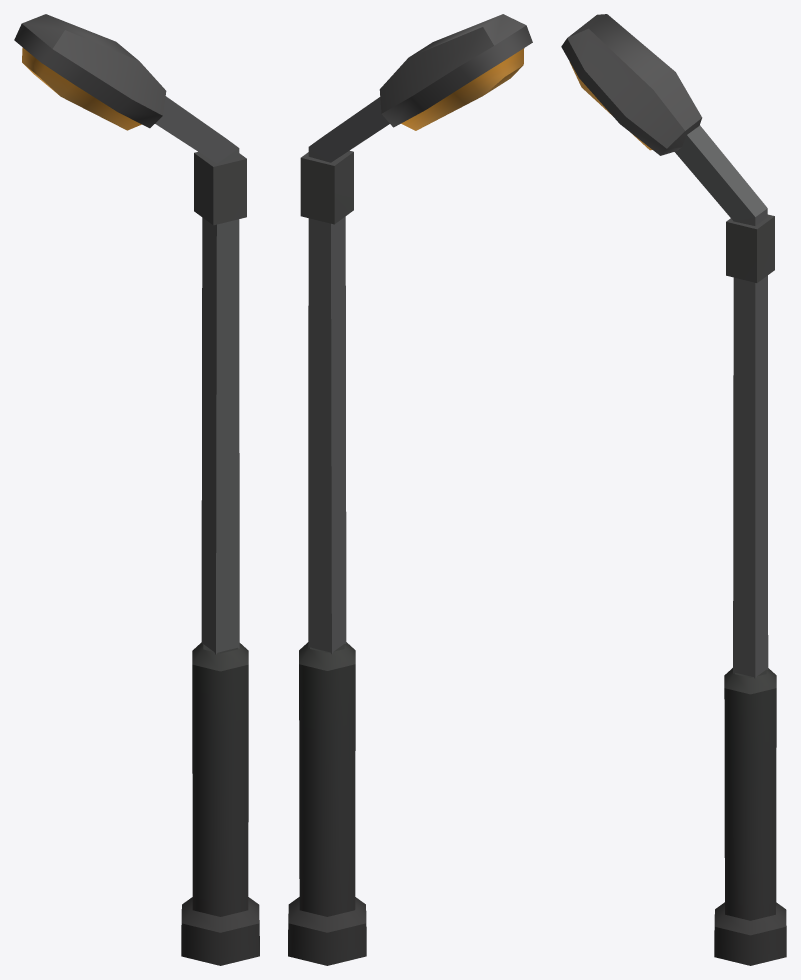
File: Lamp_Court_1_B.fbx
3 renders of one model, left to right at view 1: azimuth 30°, elevation 25°; view 2: azimuth 150°, elevation 25°; view 3: azimuth 330°, elevation 25°, orthographic. The views are drawn at different scales.
Visible parts, largest first — view 1: Lamp_Court_1_B; view 2: Lamp_Court_1_B; view 3: Lamp_Court_1_B.
Boxes of the visible parts, bbox=[...] form: Lamp_Court_1_B: bbox=[14, 14, 259, 965]; Lamp_Court_1_B: bbox=[288, 14, 532, 965]; Lamp_Court_1_B: bbox=[561, 14, 786, 965].
Bounding box in the file's own units: 163 × 648 × 58.67.
